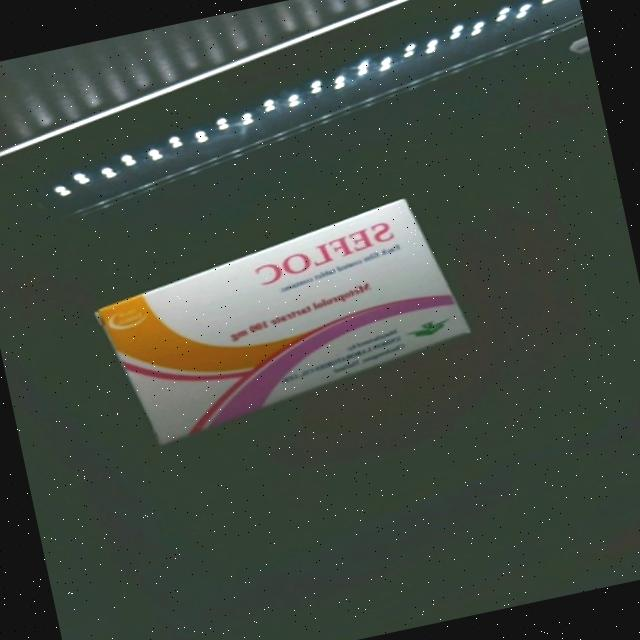medicine_name_detection: (88, 190, 479, 448)
